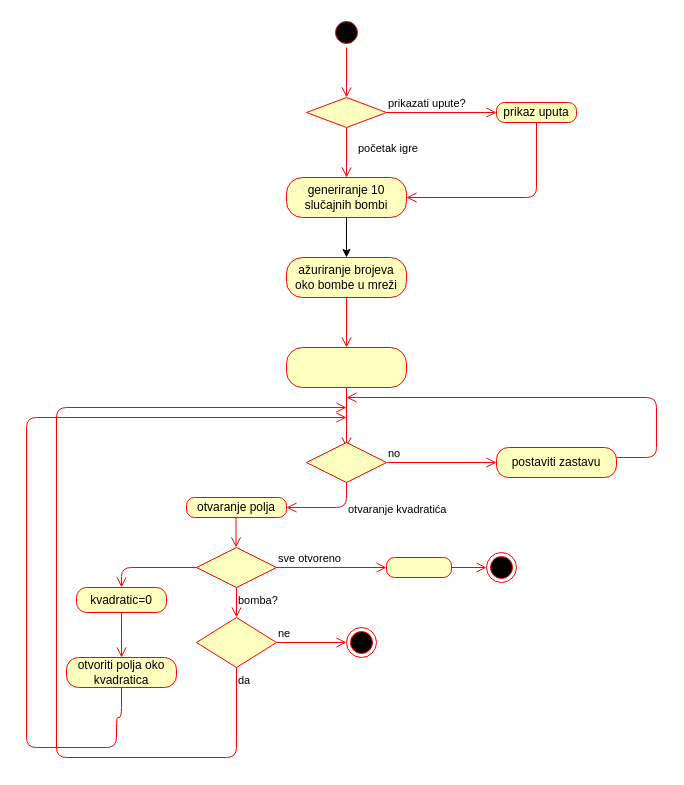
The diagram is 684 pixels wide and 785 high, and some of its shapes have lost their labels. The shapes that lost their labels are listed below. From the top down, each one's box as (x1, y1, x2, y2) in pixels, then its label:
(286, 346, 406, 388): prikaz mreže, traženje poteza
(386, 556, 452, 578): POBJEDA
(196, 616, 276, 668): Kraj, ponovo?
